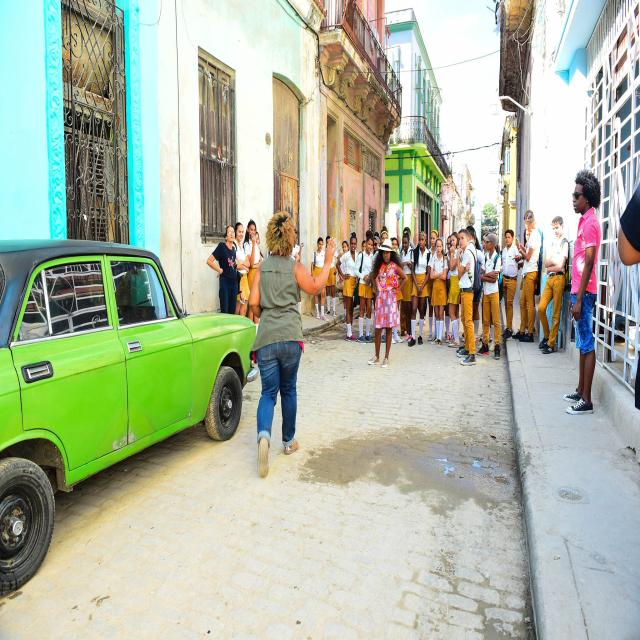body: (247, 208, 337, 477), (562, 167, 602, 416), (367, 238, 408, 368), (538, 214, 570, 355), (510, 208, 542, 344), (476, 232, 504, 361), (456, 228, 482, 366), (336, 231, 364, 342), (206, 224, 239, 314), (115, 264, 157, 328), (478, 230, 500, 352), (408, 230, 430, 347), (502, 228, 525, 339), (354, 230, 374, 344), (443, 231, 462, 349), (242, 219, 263, 325), (429, 236, 448, 348), (372, 225, 388, 344), (618, 180, 640, 266), (232, 221, 250, 317), (310, 236, 330, 321), (426, 228, 440, 342), (399, 231, 413, 343), (479, 231, 493, 341), (323, 235, 340, 317), (391, 237, 404, 344), (443, 235, 455, 345), (396, 207, 418, 256), (292, 228, 304, 316), (338, 240, 350, 324), (464, 224, 482, 278), (633, 349, 640, 412), (254, 230, 266, 264), (473, 229, 483, 269), (290, 245, 300, 262), (372, 235, 381, 252), (523, 227, 530, 247), (458, 245, 464, 264), (423, 302, 428, 324), (512, 254, 524, 262), (361, 240, 367, 252), (525, 309, 528, 332), (495, 243, 500, 254), (268, 250, 274, 258), (425, 238, 429, 248), (374, 232, 381, 236), (390, 236, 396, 240), (416, 319, 419, 326)
